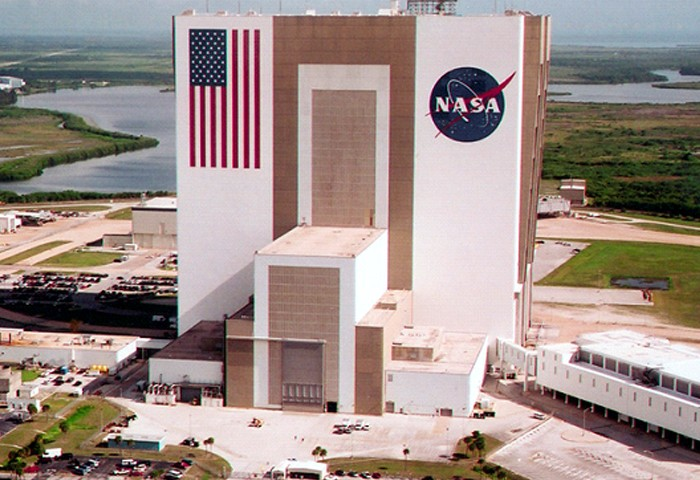NASA: (422, 65, 521, 145)
